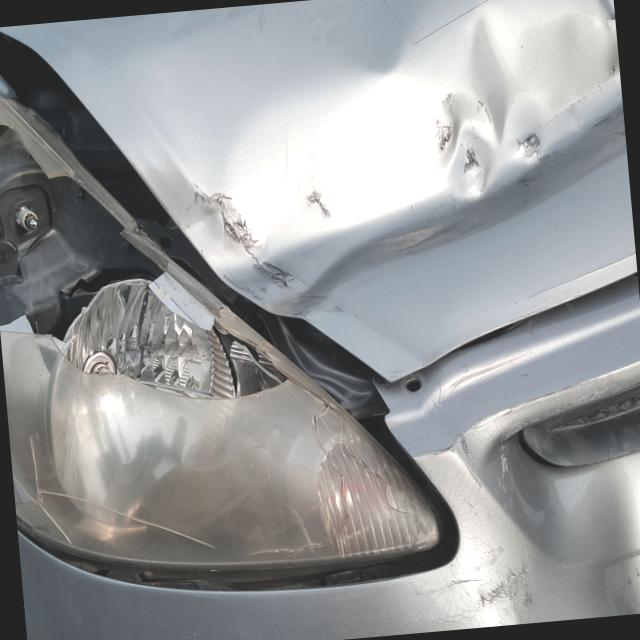Cabossage: (177, 7, 637, 311)
Phare abime: (0, 42, 325, 469), (0, 296, 69, 562)
Rayure: (423, 513, 563, 631)
